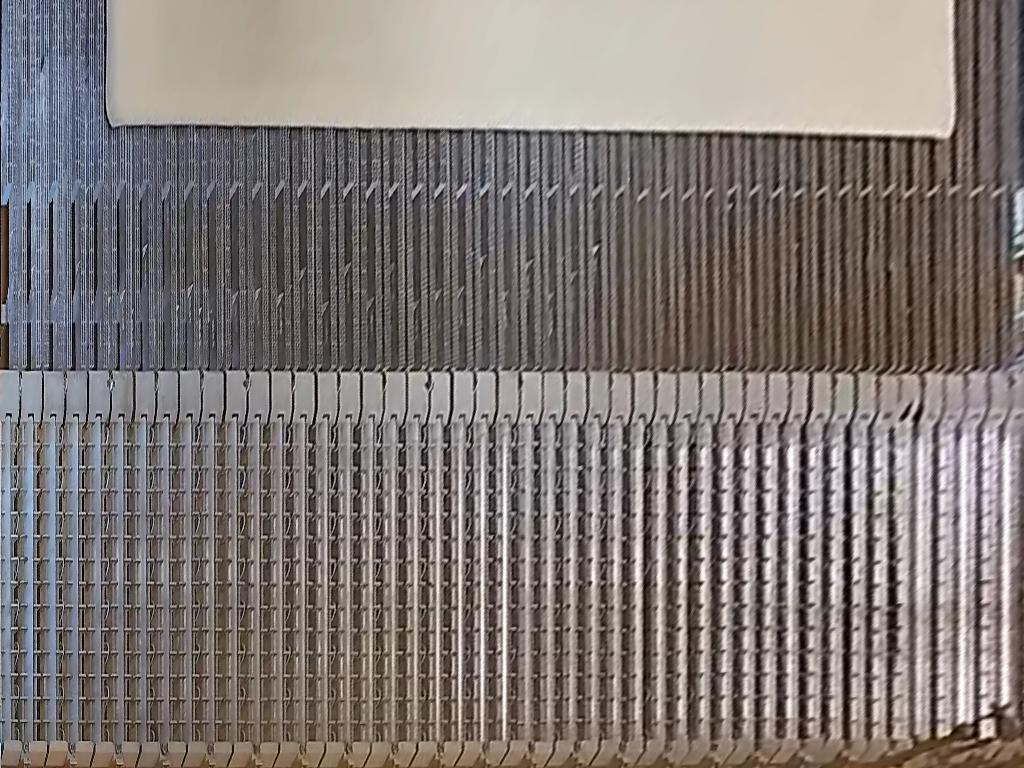steel: (104, 1, 958, 141)
